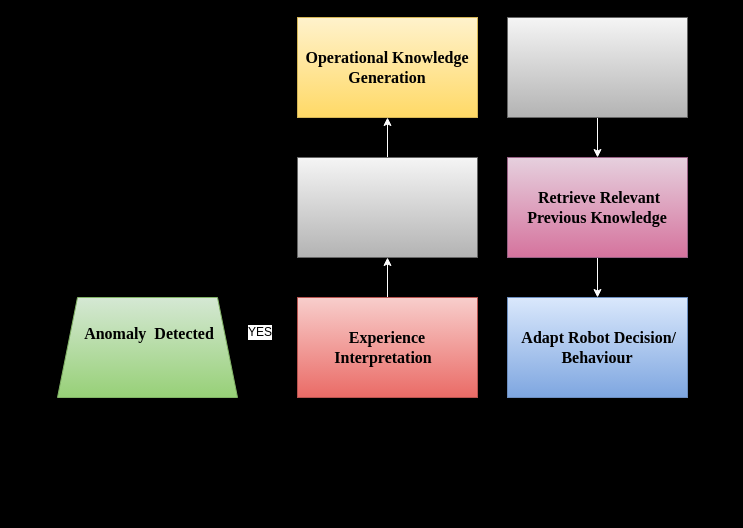
Some shapes in this 743 by 528 pixel diagram are drawn without their labels. The box of each missing label's shape, as (x1, y1, x2, y2) in pixels:
Reflective Reasoning Analyse context, cause & consequence: (296, 156, 478, 258)
Update Operational Knowledge Graph: (506, 16, 688, 118)
